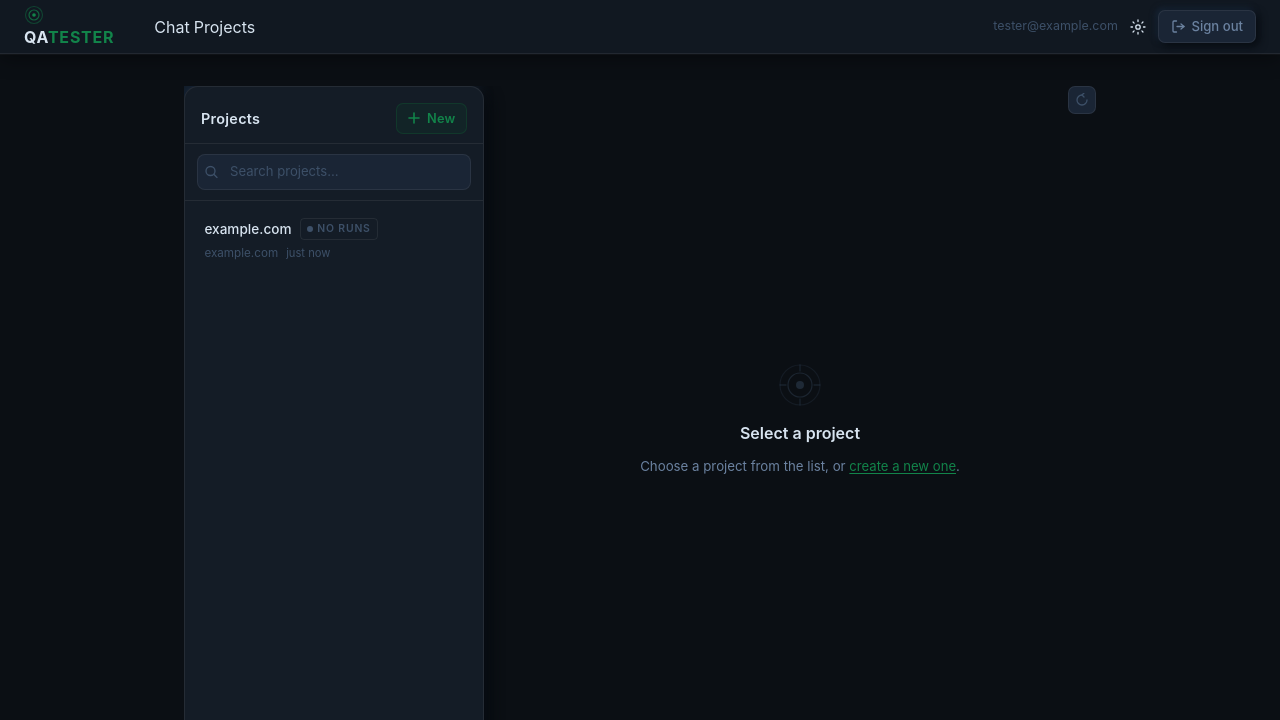
Test: Create project with a valid URL › shows the 'already exists' warning when the URL was a duplicate
Expected: the number of options is 1, top-left (191, 207), bottom-right (477, 274)
Click the button with aria-label "create new project". click: (432, 118)
box: top-left (396, 103), bottom-right (467, 134)
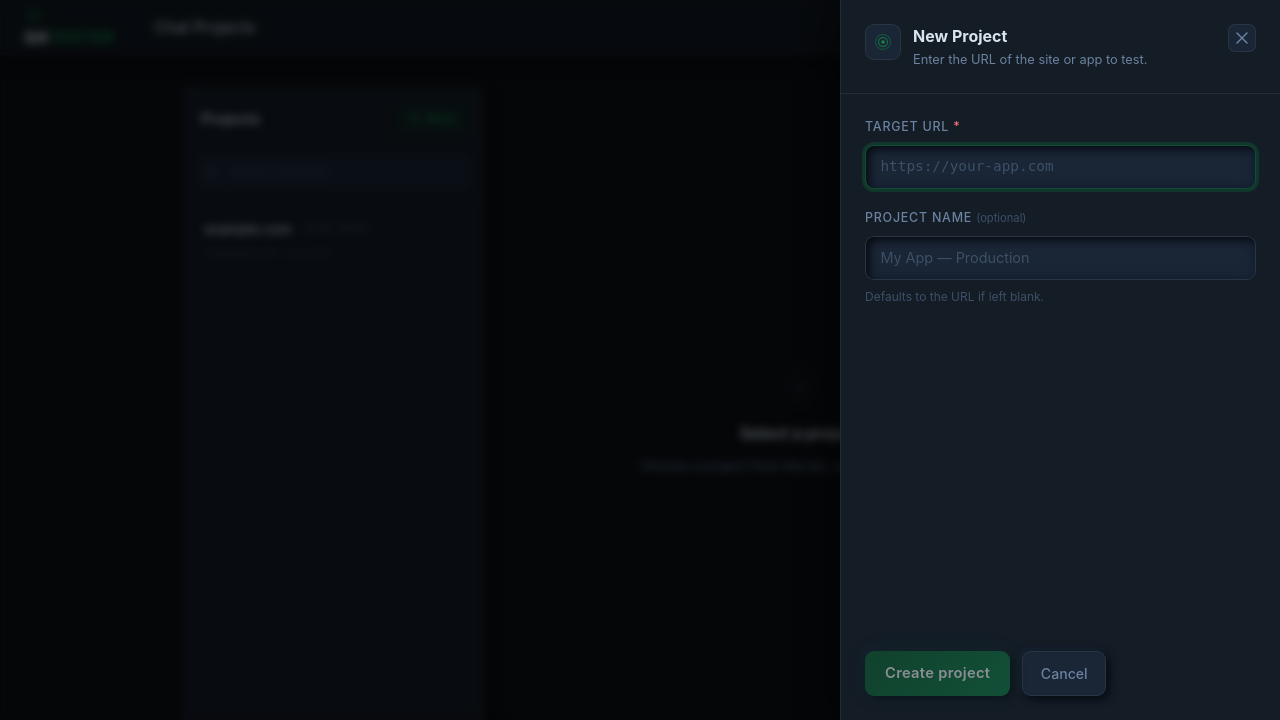
Type "https://example.com" into the field labelled "Target URL *". click: (1060, 167)
box: top-left (865, 144), bottom-right (1256, 189)
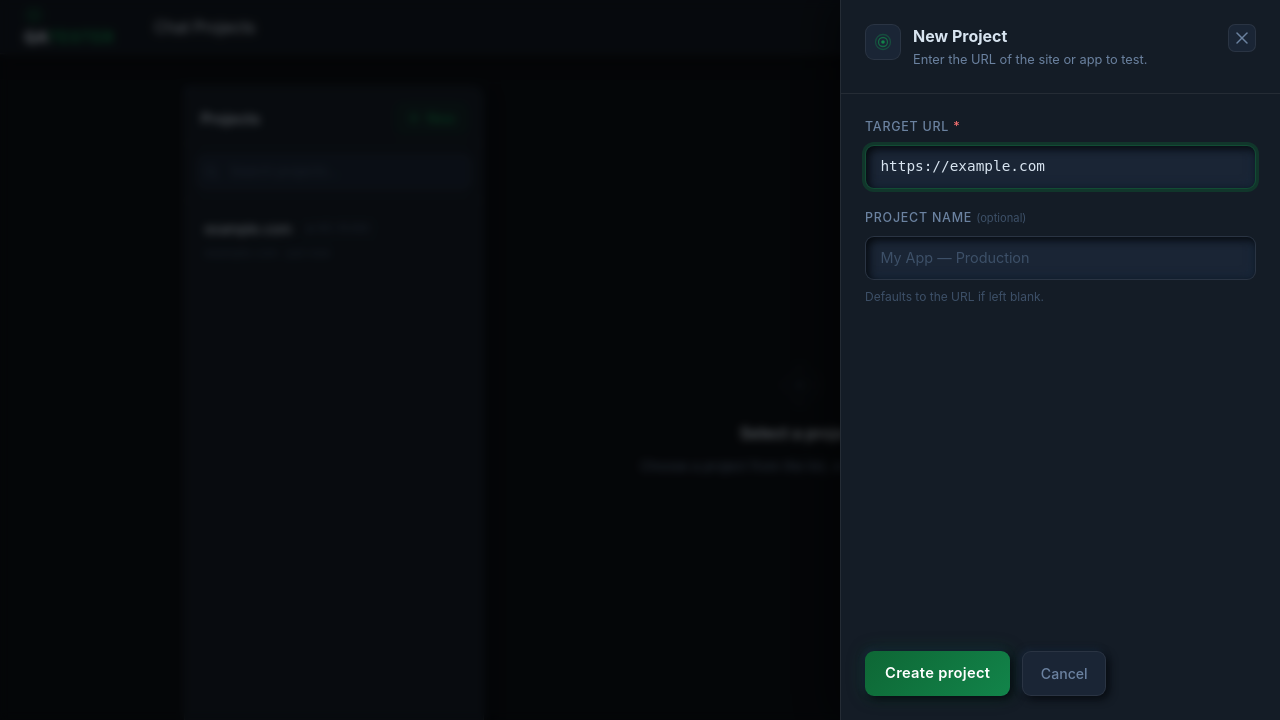
Click the button "Create project". click: (938, 673)
box: top-left (865, 650), bottom-right (1010, 696)
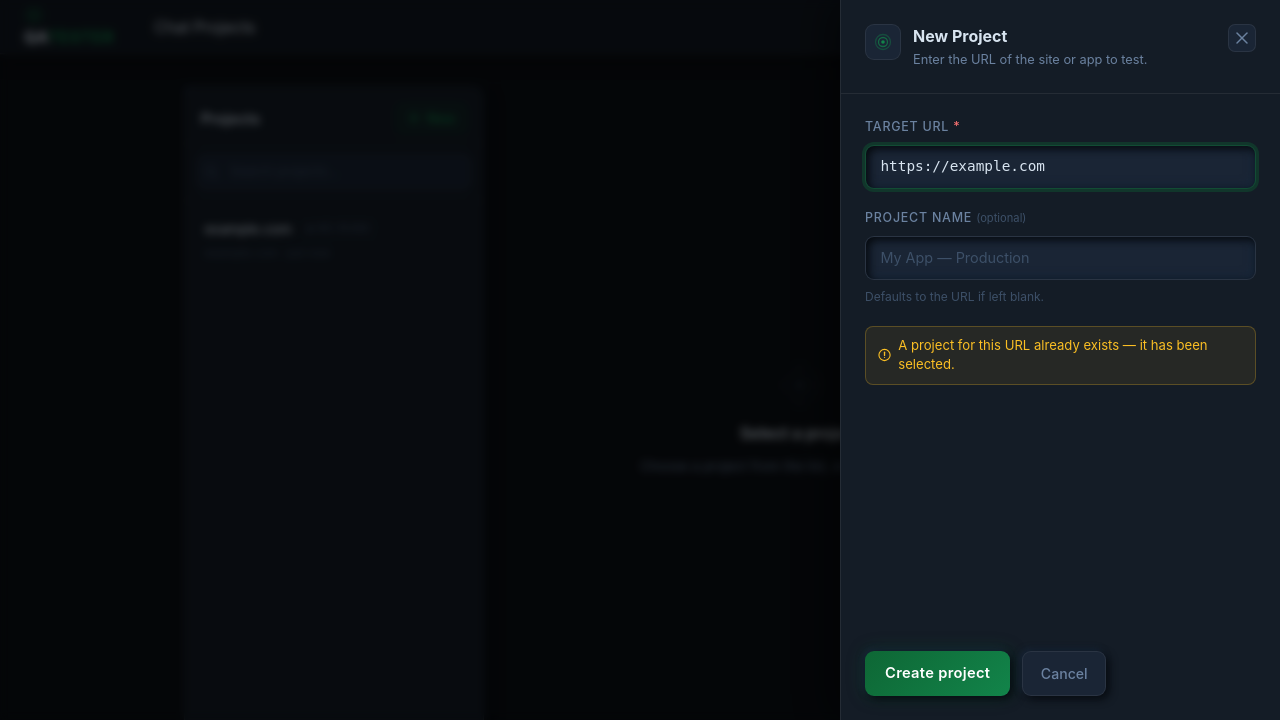
Now the message shows "already exists", box top-left (898, 337), bottom-right (1208, 372)
